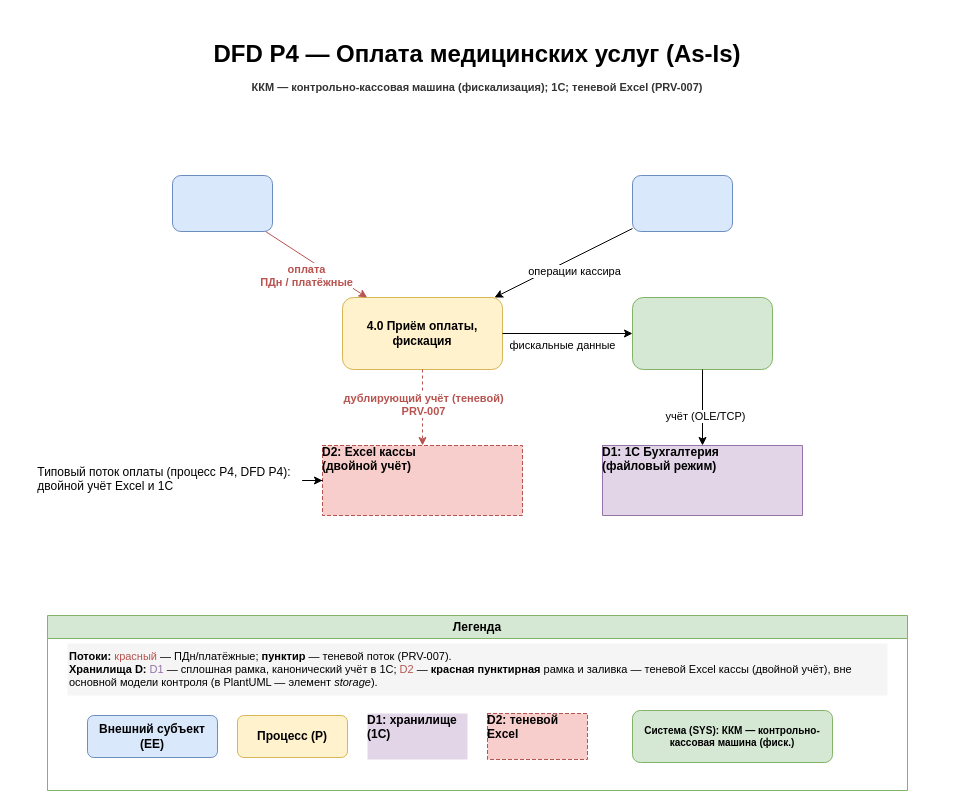
Some shapes in this 954 by 808 pixel diagram are drawn without their labels. Each missing label, with the centre of its shape:
"Cashier" belongs at (x=682, y=203).
"Patient" belongs at (x=222, y=203).
"ККМ (контрольно-кассовая машина, фиск.)" belongs at (x=702, y=333).
